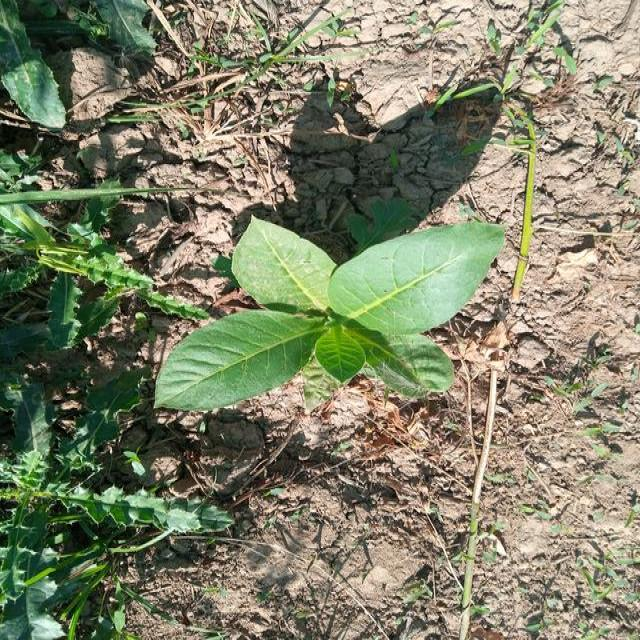crop: (157, 221, 512, 431)
